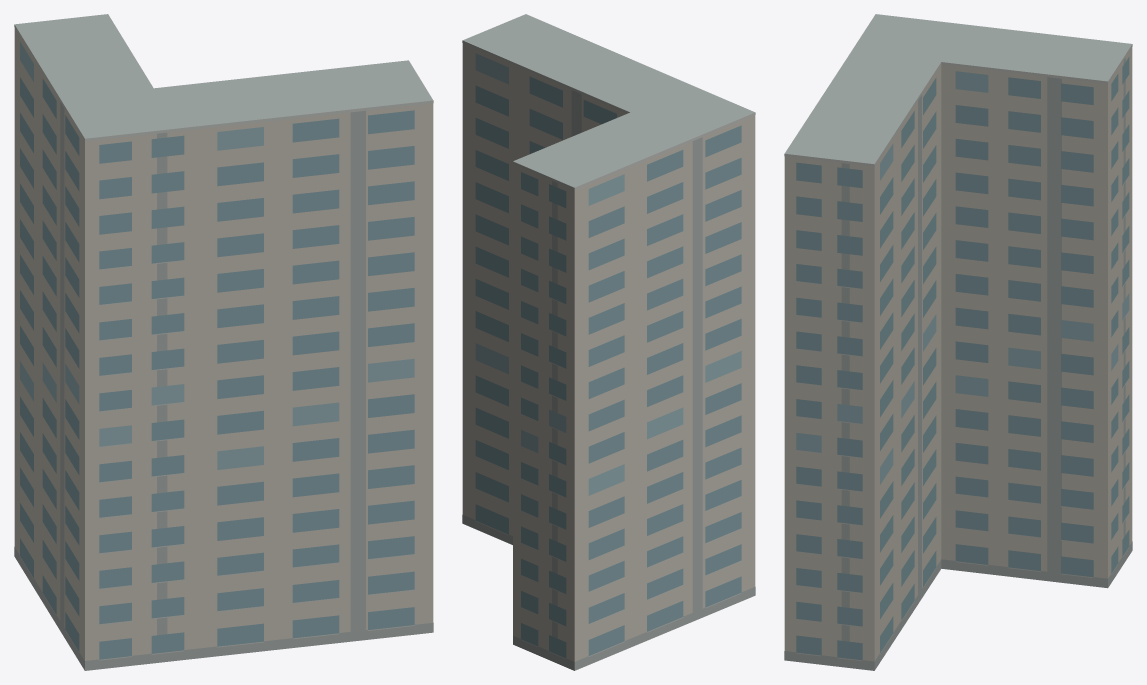
The model's file is residential-f2a458ad-190f-4dbc-bf8c-e43bbd842b7b.glb.
3 views of the same model, side by side, from view 1: azimuth 30°, elevation 25°; view 2: azimuth 150°, elevation 25°; view 3: azimuth 270°, elevation 25° (orthographic). The views are drawn at different scales.
Visible parts, largest first — view 1: residential-f2a458ad-190f-4dbc-bf8c-e43bbd842b7b.tmp; view 2: residential-f2a458ad-190f-4dbc-bf8c-e43bbd842b7b.tmp; view 3: residential-f2a458ad-190f-4dbc-bf8c-e43bbd842b7b.tmp.
Part boxes in pixels (<box>): residential-f2a458ad-190f-4dbc-bf8c-e43bbd842b7b.tmp: <box>14,14,433,670</box>; residential-f2a458ad-190f-4dbc-bf8c-e43bbd842b7b.tmp: <box>462,14,755,670</box>; residential-f2a458ad-190f-4dbc-bf8c-e43bbd842b7b.tmp: <box>784,14,1132,670</box>.
Bounding box in the file's own units: 28.62 × 45 × 28.02.
